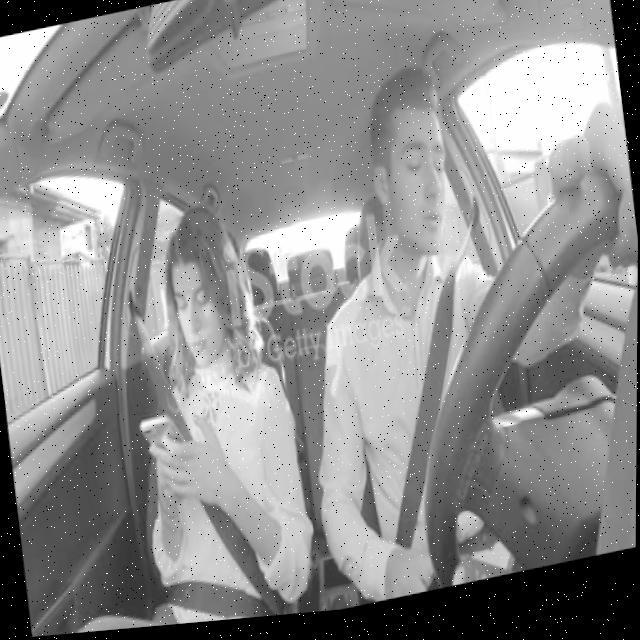PhoneCall: (137, 414, 190, 496)
